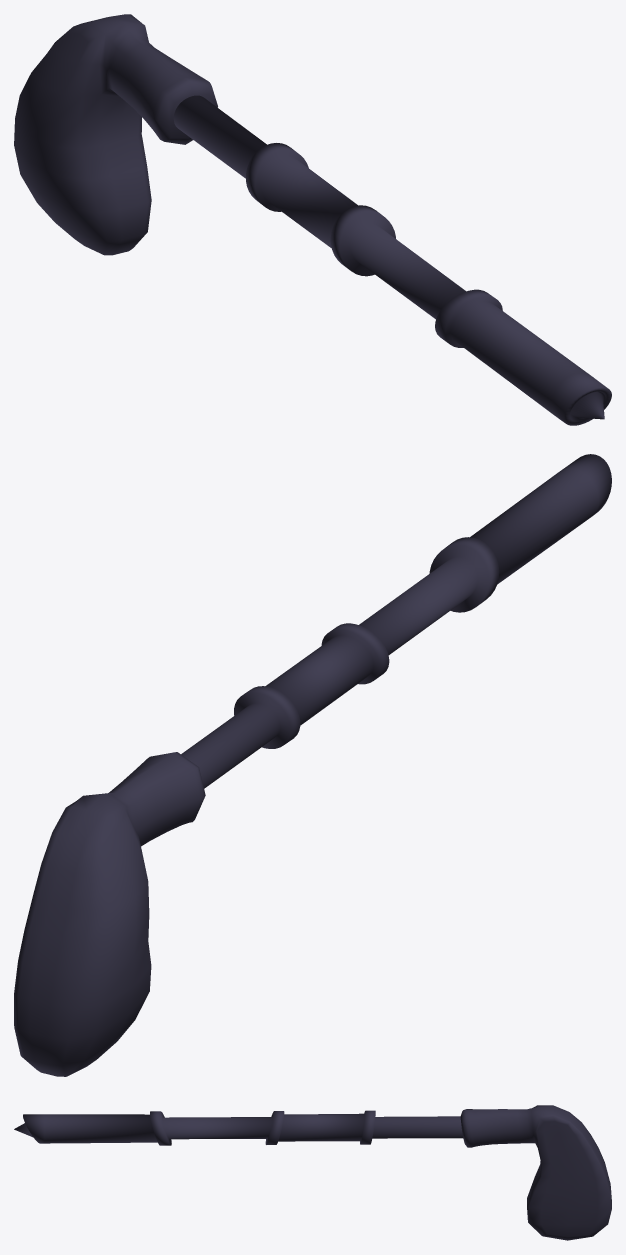
Rendered from PaloJosefinoLose.fbx.
The picture shows the model from 3 angles, top to bottom: view 1: azimuth 30°, elevation 25°; view 2: azimuth 150°, elevation 25°; view 3: azimuth 270°, elevation 25°; orthographic projection. The views are drawn at different scales.
Parts seen in each view (by area): view 1: Cylinder; view 2: Cylinder; view 3: Cylinder.
Part boxes in pixels (<box>): Cylinder: <box>14,14,611,425</box>; Cylinder: <box>14,454,611,1076</box>; Cylinder: <box>14,1105,611,1240</box>.
Size of the model in its own units: 0.2552 by 0.644 by 2.67.
